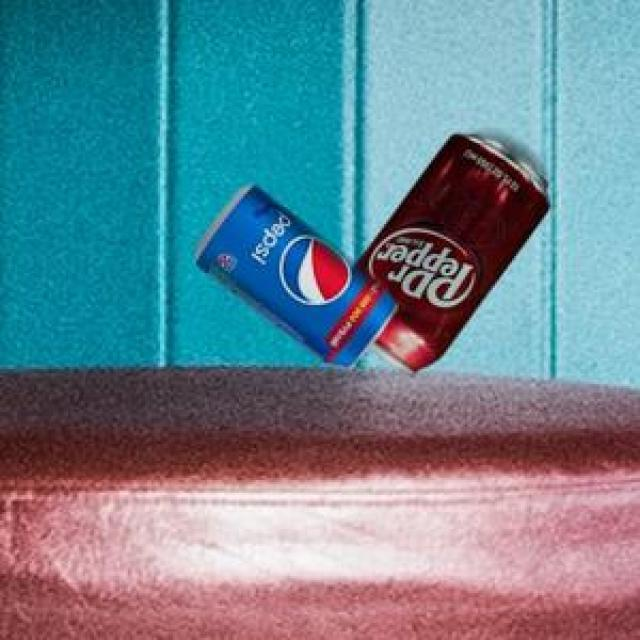Can: (349, 131, 547, 372), (191, 182, 394, 364)
